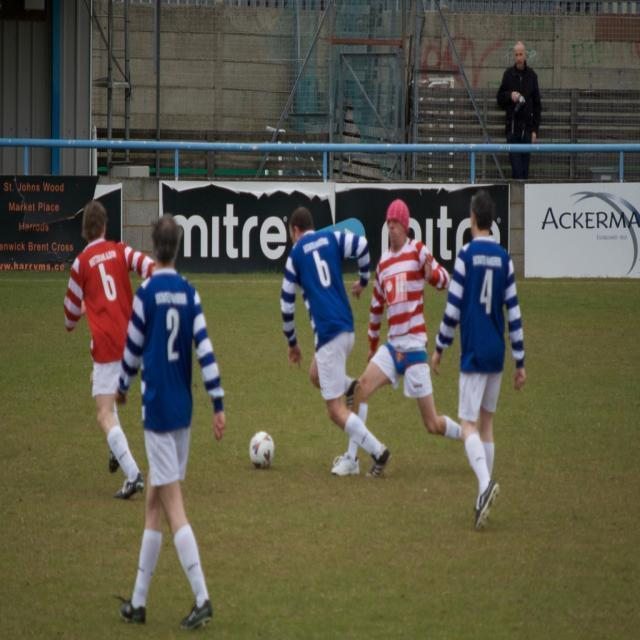football: (246, 424, 281, 473)
